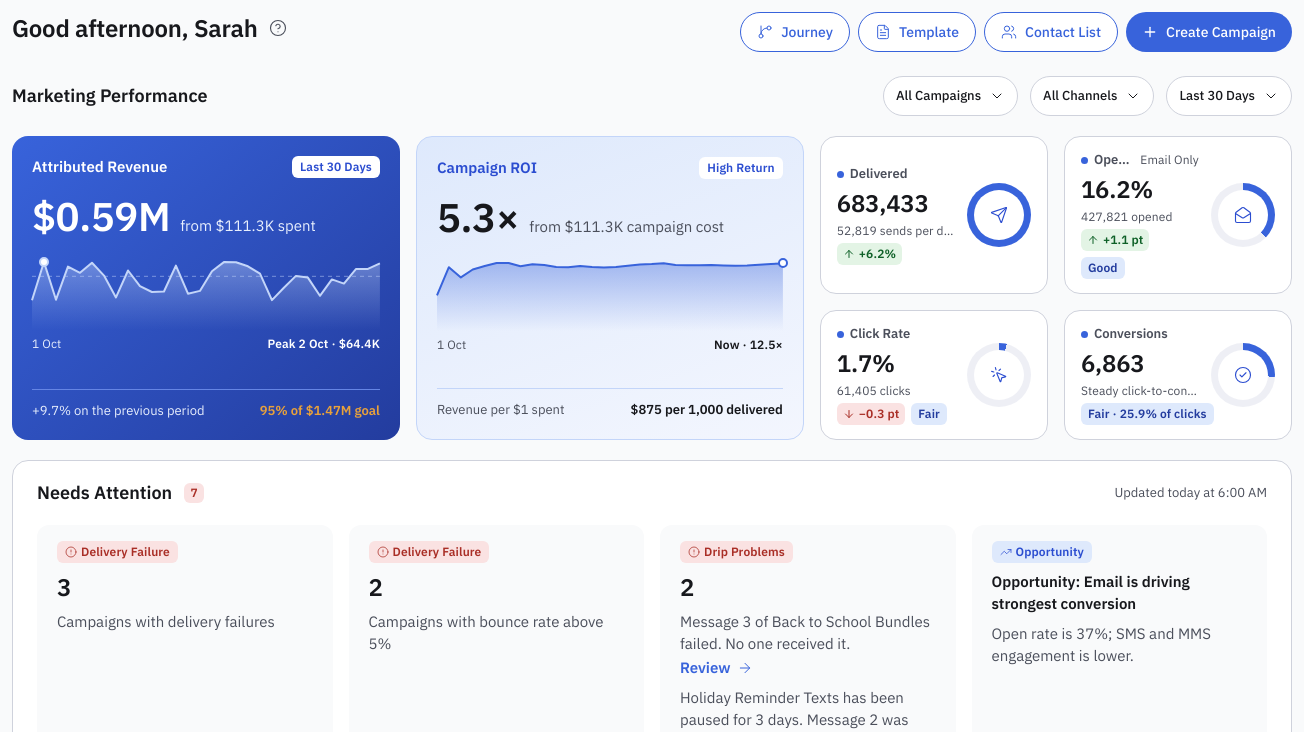
Scenario: the Channel menu lists only the workspace’s channels
Click the button "All Channels" at [1092, 96], box [1030, 76, 1154, 116]
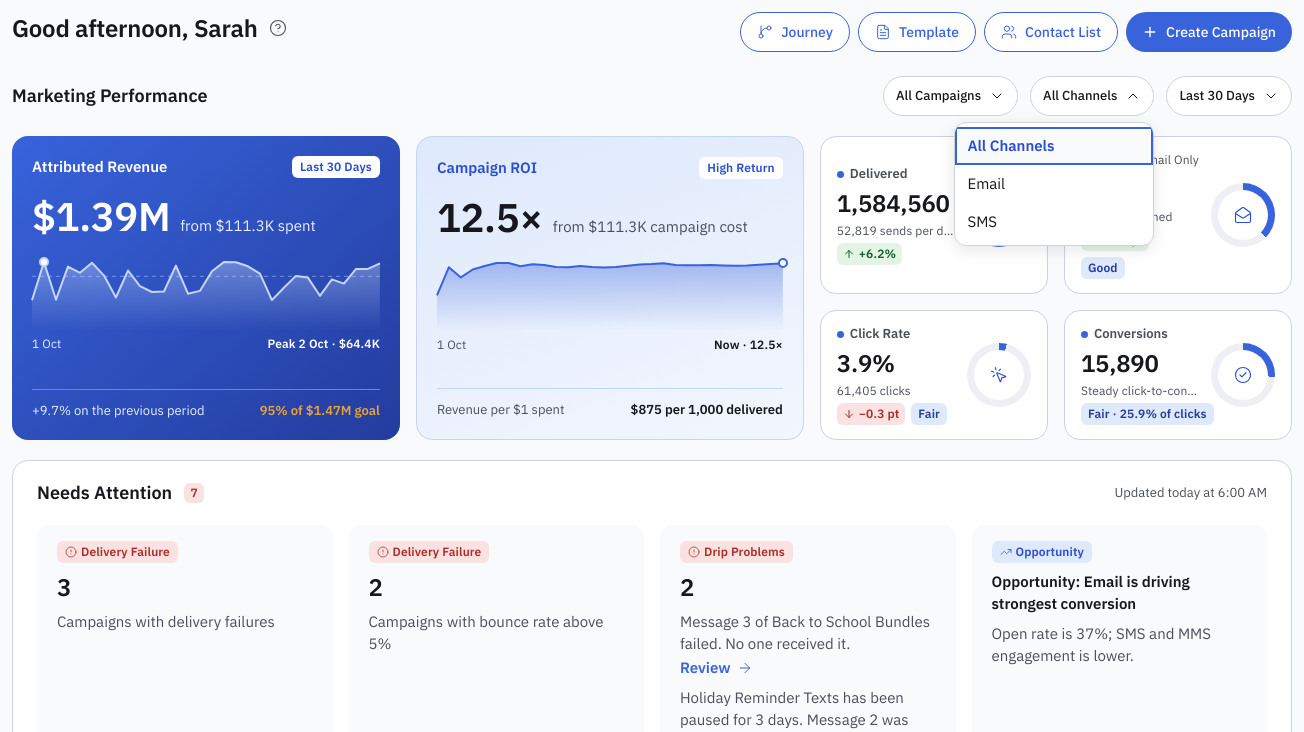
Expected: the options read "All Channels", "Email", "SMS", in this order, [955, 127, 1153, 165]; [967, 174, 1005, 193]; [967, 212, 997, 231]
